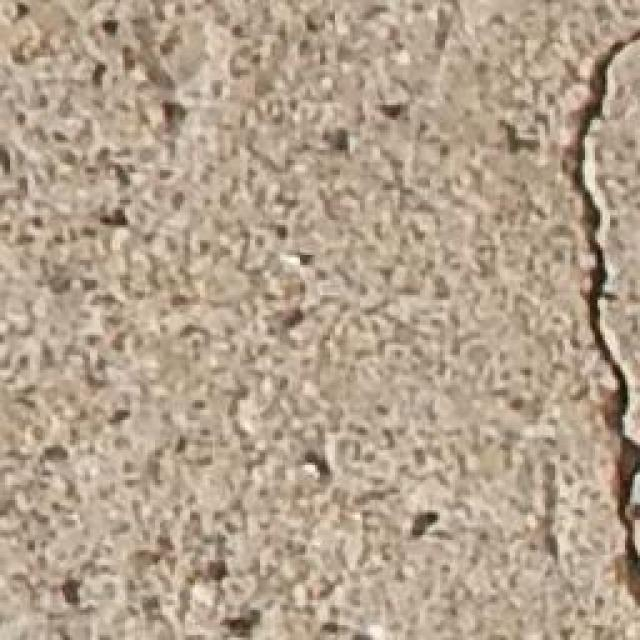concrete-crack: (557, 28, 640, 620)
